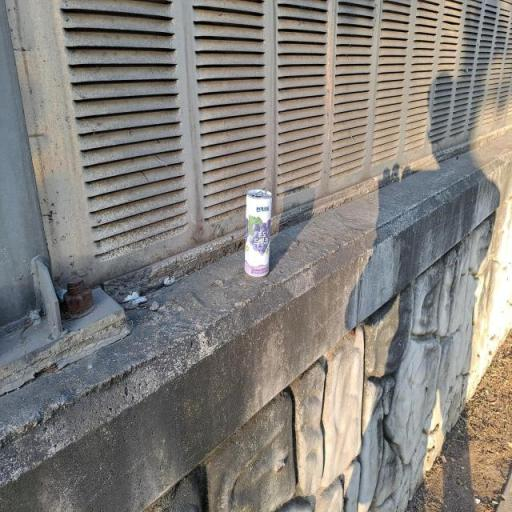metal: (245, 189, 271, 277)
